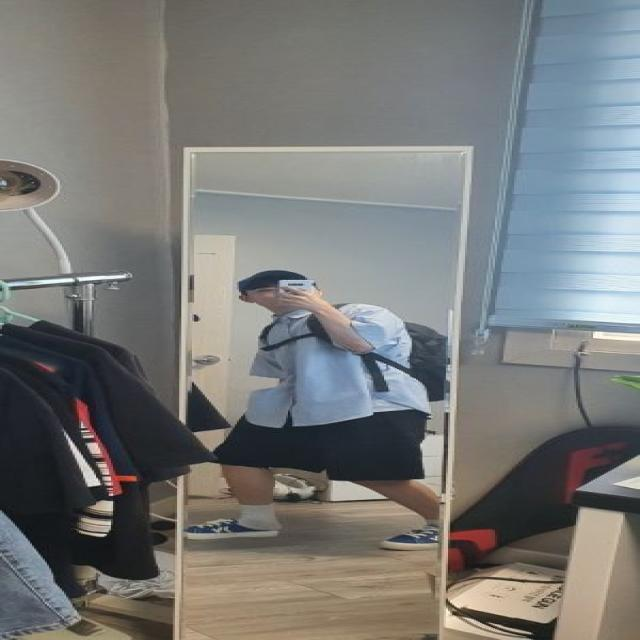shirt: (242, 299, 441, 428)
shortpants: (204, 406, 422, 482)
